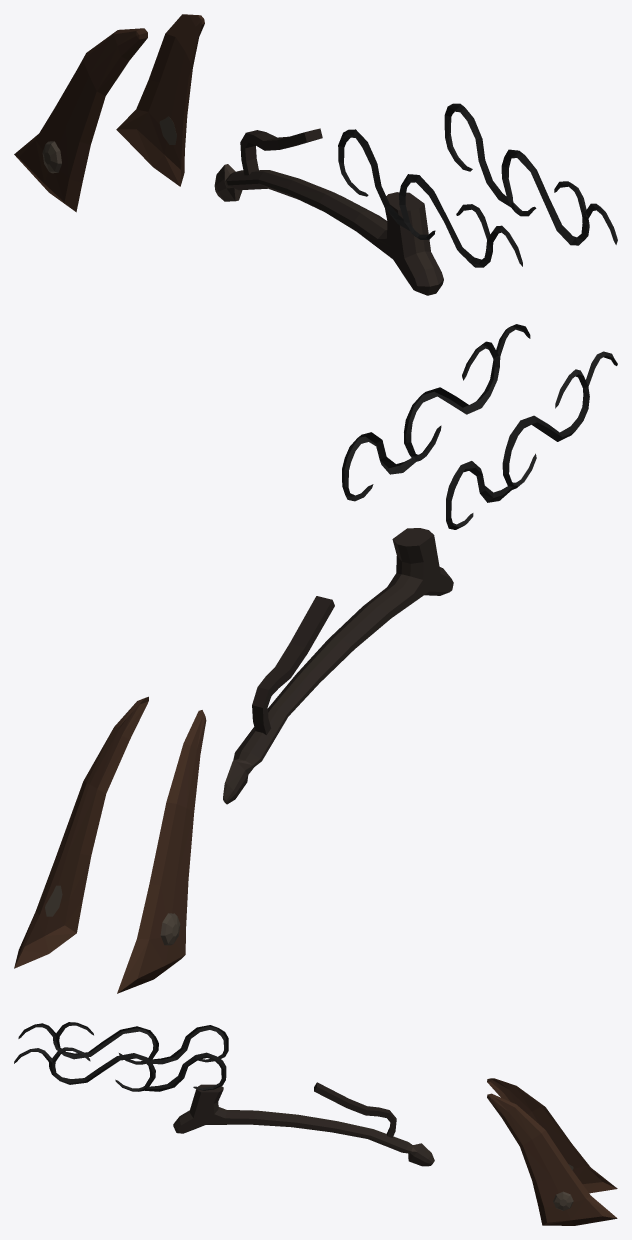
The model's file is smallCrossbowDefaultHandle.glb.
3 views of the same model, one above another, from view 1: azimuth 30°, elevation 25°; view 2: azimuth 150°, elevation 25°; view 3: azimuth 270°, elevation 25° (orthographic). The views are drawn at different scales.
Visible parts, largest first — view 1: smallCrossbowDefaultHandle; view 2: smallCrossbowDefaultHandle; view 3: smallCrossbowDefaultHandle.
Boxes of the visible parts, box(x1,y1,x2,y2) form: smallCrossbowDefaultHandle: box(14, 14, 617, 295); smallCrossbowDefaultHandle: box(14, 324, 617, 993); smallCrossbowDefaultHandle: box(14, 1022, 617, 1225).
Size of the model in its own units: 0.064 by 0.142 by 0.4394.
